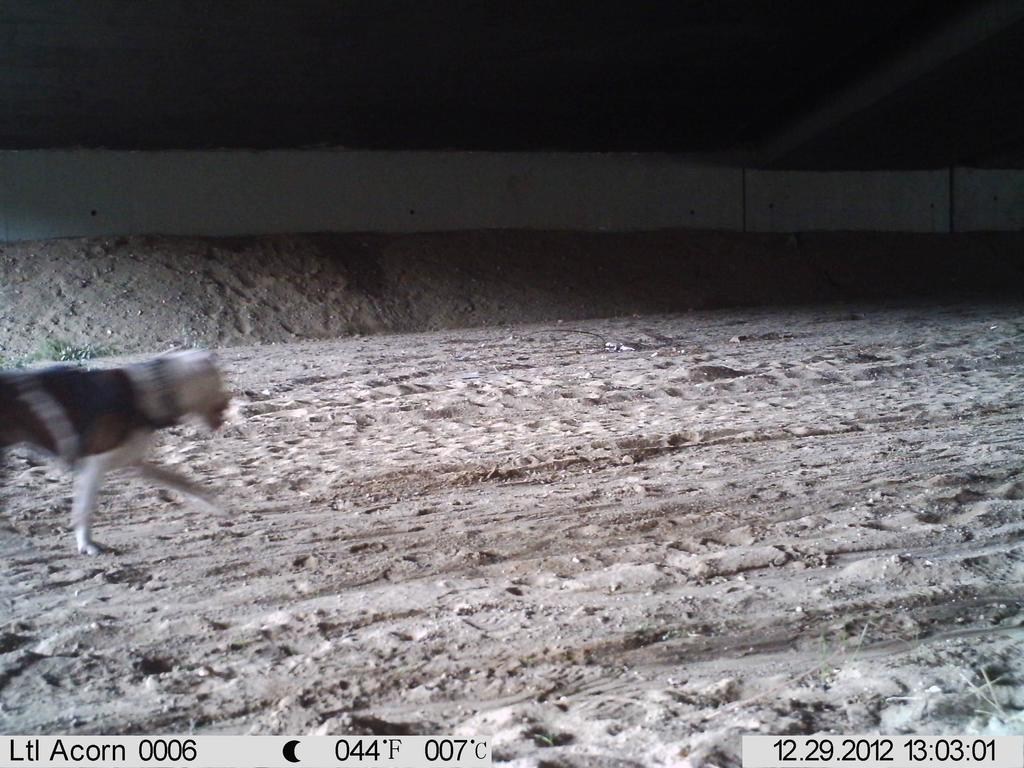dog: (9, 327, 258, 575)
